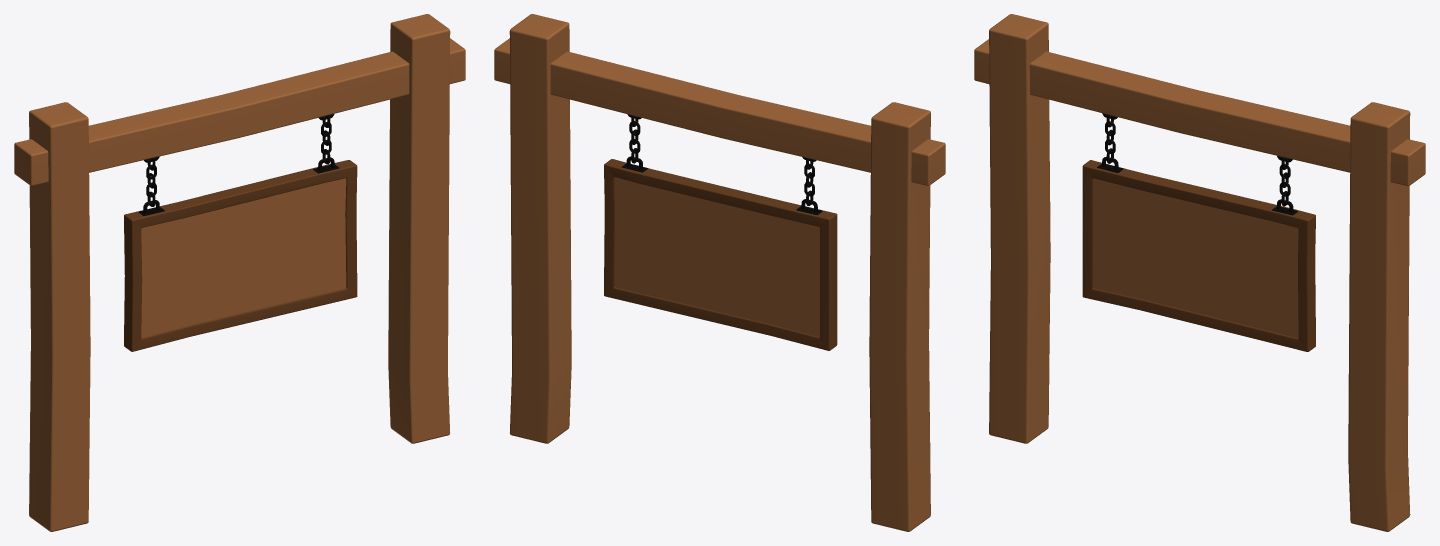
Rendered from plotsign.glb.
The picture shows the model from 3 angles, left to right: view 1: azimuth 30°, elevation 25°; view 2: azimuth 150°, elevation 25°; view 3: azimuth 330°, elevation 25°; orthographic projection.
Parts seen in each view (by area): view 1: signboard; view 2: signboard; view 3: signboard.
Part boxes in pixels (x1=…): signboard: x1=14, y1=14, x2=465, y2=531; signboard: x1=494, y1=14, x2=945, y2=531; signboard: x1=974, y1=14, x2=1425, y2=531.
Size of the model in its own units: 3.06 by 2.73 by 0.2729.
